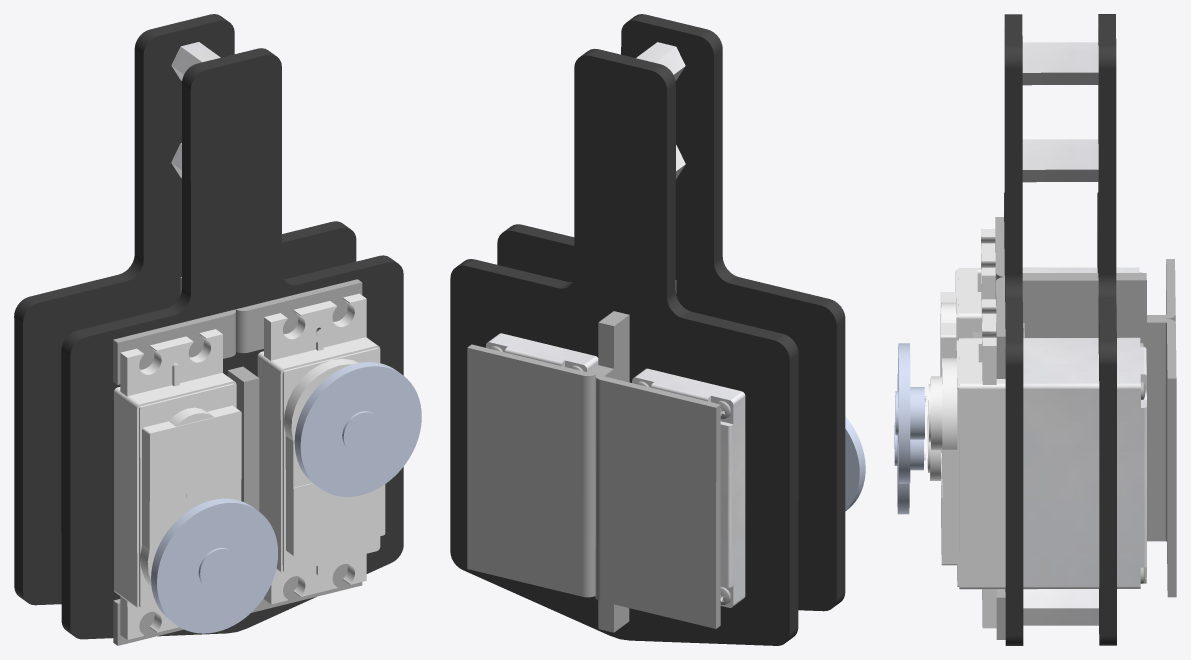
File: r_graspA_link.dae
The picture shows the model from 3 angles, left to right: view 1: azimuth 30°, elevation 25°; view 2: azimuth 150°, elevation 25°; view 3: azimuth 270°, elevation 25°; orthographic projection.
Parts seen in each view (by area): view 1: Actor0; view 2: Actor0; view 3: Actor0.
Part boxes in pixels (x1,y1,x2,y2): Actor0: (14, 14, 421, 645); Actor0: (450, 14, 865, 645); Actor0: (894, 14, 1176, 645).
Size of the model in its own units: 0.0661 by 0.1074 by 0.0482.
Materials: 8 (3 with a texture image).
